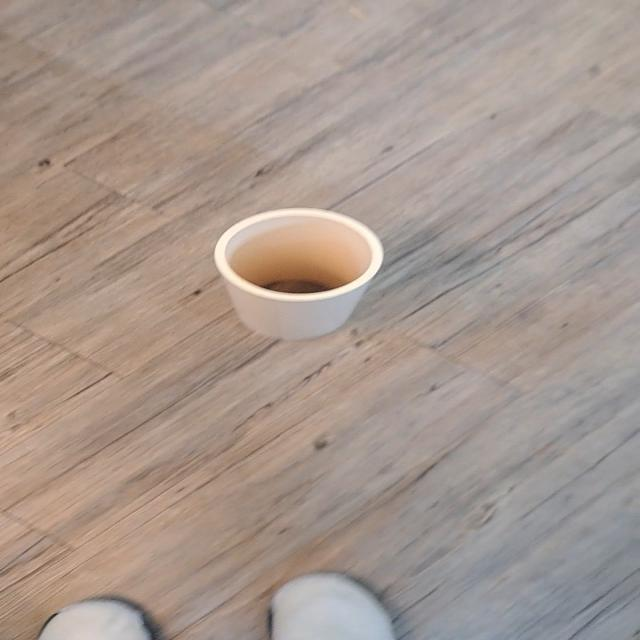CORAL: (187, 187, 407, 346)
